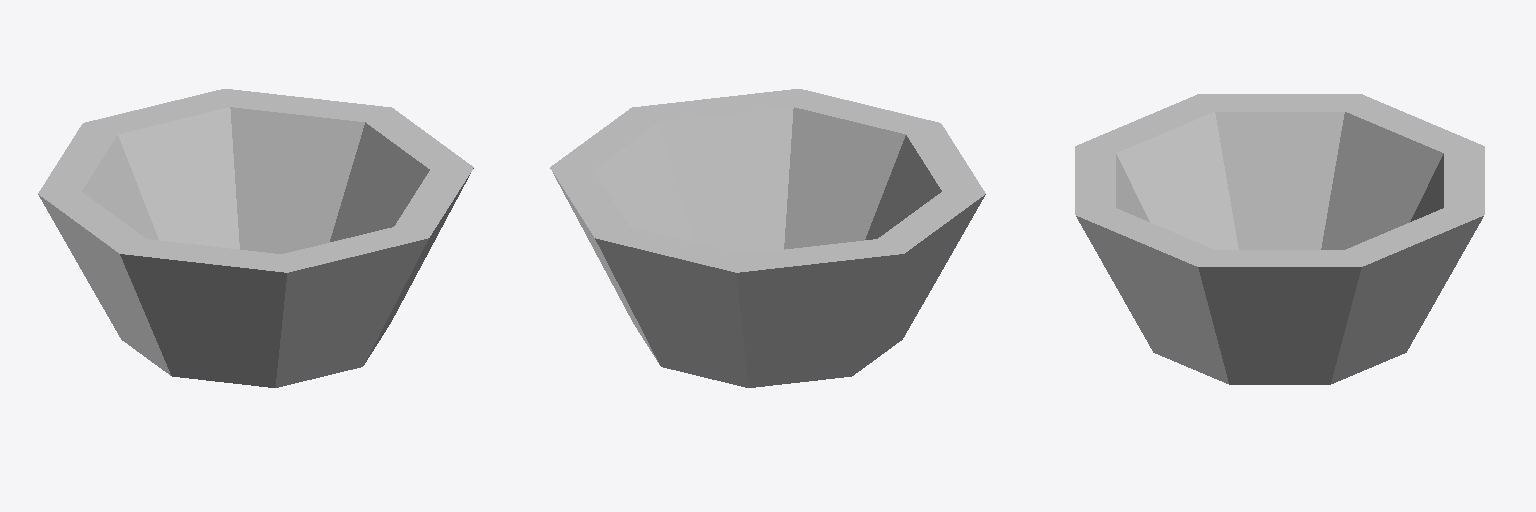
File: BG_POT_02.obj
3 views of the same model, side by side, from view 1: azimuth 30°, elevation 25°; view 2: azimuth 150°, elevation 25°; view 3: azimuth 270°, elevation 25° (orthographic).
Visible parts, largest first — view 1: pot_02; view 2: pot_02; view 3: pot_02.
Part boxes in pixels (left/top/right/bottom): pot_02: left=38, top=89, right=473, bottom=387; pot_02: left=550, top=89, right=985, bottom=387; pot_02: left=1075, top=94, right=1484, bottom=384.
Size of the model in its own units: 80.84 by 32.83 by 80.84.